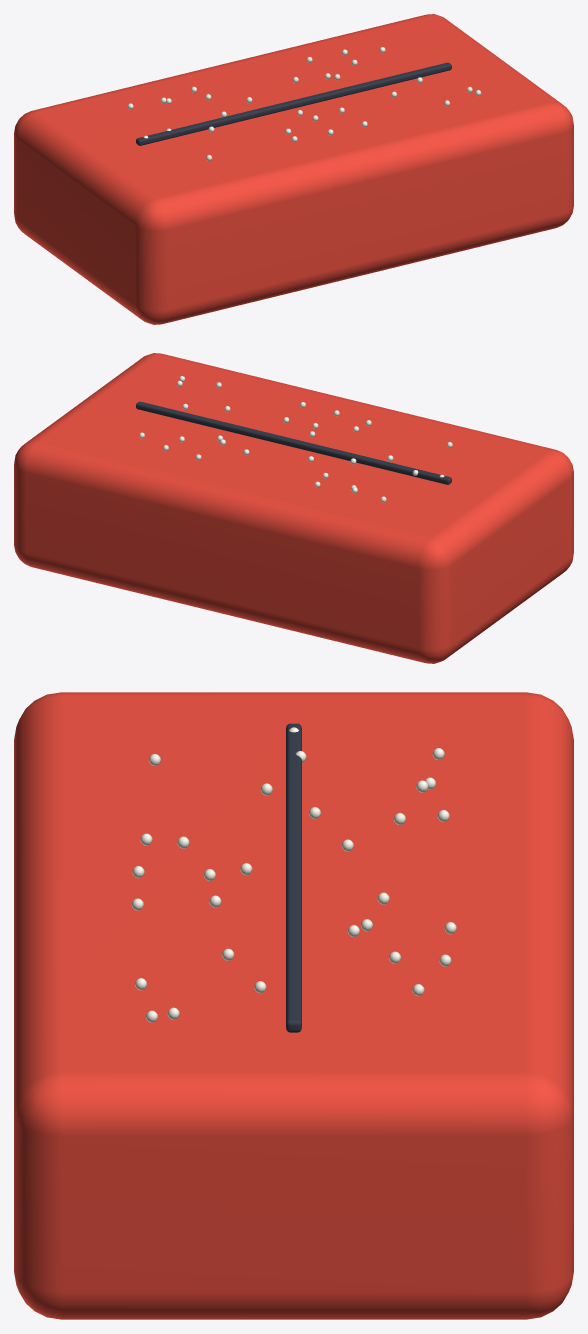
Rendered from Schaumstoffblock_Flach_Rot_3D.glb.
3 views of the same model, one above another, from view 1: azimuth 30°, elevation 25°; view 2: azimuth 150°, elevation 25°; view 3: azimuth 270°, elevation 25° (orthographic). The views are drawn at different scales.
Visible parts, largest first — view 1: red individual flat small foam block, red individual flat small foam block stitched top center sea; view 2: red individual flat small foam block, red individual flat small foam block stitched top center sea; view 3: red individual flat small foam block, red individual flat small foam block stitched top center sea.
Part boxes in pixels (bbox=[...]): red individual flat small foam block: bbox=[14, 14, 573, 324]; red individual flat small foam block stitched top center sea: bbox=[136, 62, 451, 145]; red individual flat small foam block: bbox=[14, 353, 573, 663]; red individual flat small foam block stitched top center sea: bbox=[136, 401, 451, 484]; red individual flat small foam block: bbox=[14, 692, 573, 1319]; red individual flat small foam block stitched top center sea: bbox=[286, 723, 301, 1032].
Bounding box in the file's own units: 0.88 × 0.2545 × 0.5.
